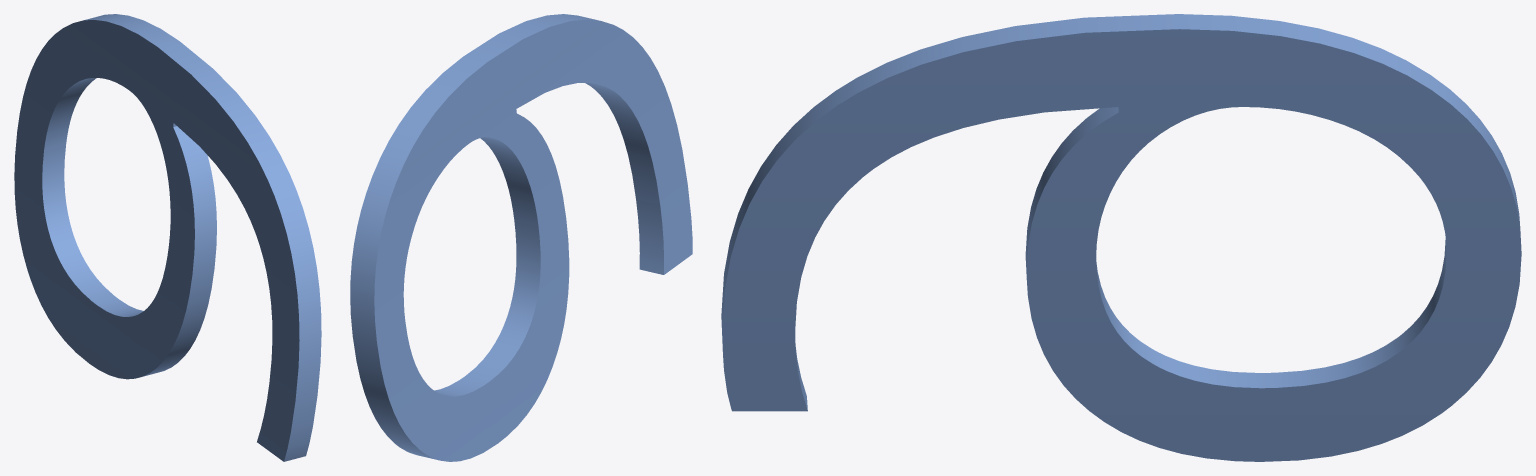
Rendered from New_Number_6.gltf.
3 renders of one model, left to right at view 1: azimuth 30°, elevation 25°; view 2: azimuth 150°, elevation 25°; view 3: azimuth 270°, elevation 25°, orthographic. The views are drawn at different scales.
Visible parts, largest first — view 1: Part 267; view 2: Part 267; view 3: Part 267.
Part boxes in pixels (x1,y1,x2,y2): Part 267: (14,14,321,461); Part 267: (350,14,692,461); Part 267: (721,14,1521,461).
Size of the model in its own units: 0.000704 by 0.00359 by 0.00566.
